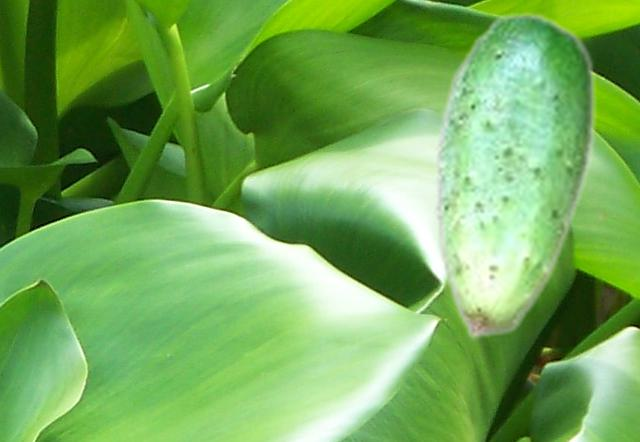cucumber: (433, 10, 595, 339)
